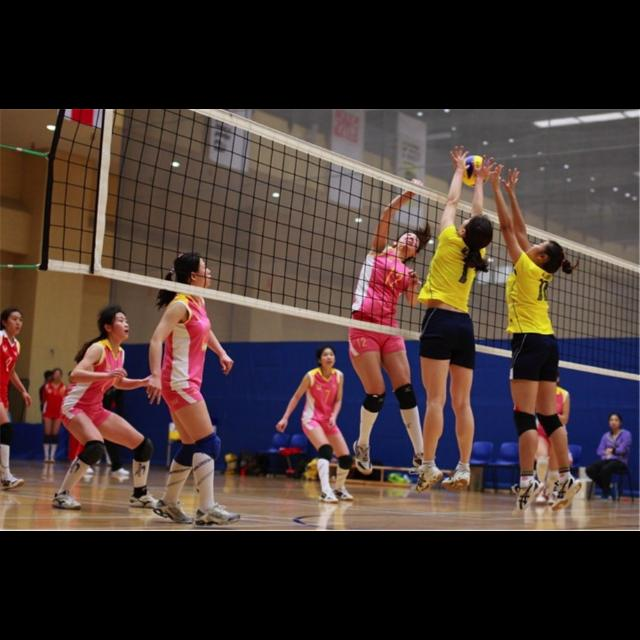head: (174, 252, 214, 290), (524, 240, 566, 276), (97, 308, 131, 342), (460, 216, 494, 248), (398, 232, 422, 260), (0, 309, 24, 337), (318, 346, 337, 369), (546, 370, 562, 388), (610, 414, 622, 431), (52, 370, 64, 382), (44, 372, 56, 384)
person: (482, 160, 586, 518), (408, 144, 502, 496), (146, 252, 247, 528), (349, 152, 423, 482), (54, 304, 162, 516), (272, 340, 362, 514), (520, 357, 576, 508), (0, 305, 34, 494), (584, 412, 636, 506), (39, 368, 71, 466), (38, 369, 61, 455)
